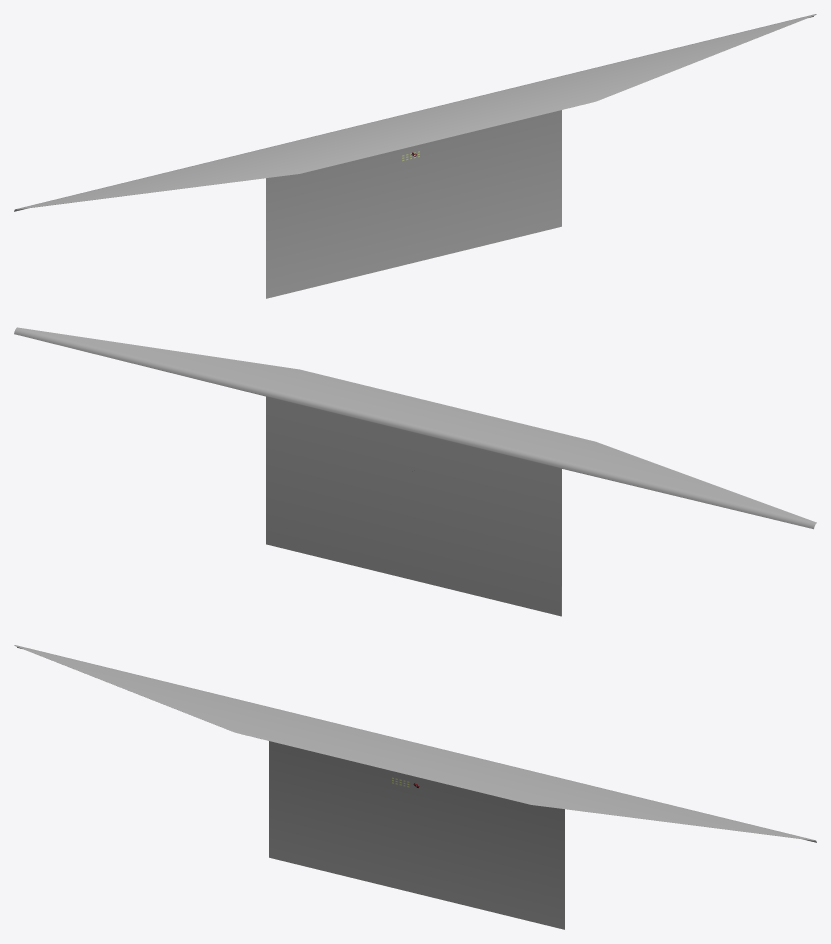
File: PEUGEOT206.obj
The picture shows the model from 3 angles, top to bottom: view 1: azimuth 30°, elevation 25°; view 2: azimuth 150°, elevation 25°; view 3: azimuth 330°, elevation 25°; orthographic projection.
Parts seen in each view (by area): view 1: Floor; view 2: Floor; view 3: Floor.
Boxes of the visible parts, <box> form: Floor: <box>14,14,816,298</box>; Floor: <box>14,327,816,616</box>; Floor: <box>14,645,816,929</box>.
Bounding box in the file's own units: 36851 × 6740 × 2716.
15 materials, 12 textured.
